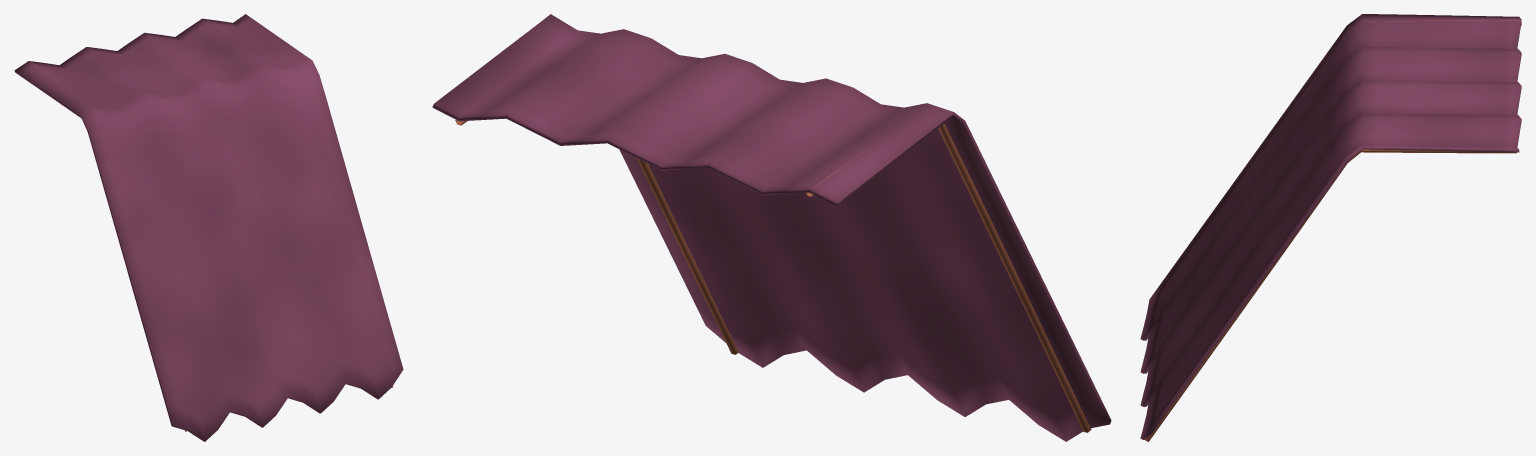
The model's file is 11_Window_Throw.fbx.
3 renders of one model, left to right at view 1: azimuth 30°, elevation 25°; view 2: azimuth 150°, elevation 25°; view 3: azimuth 270°, elevation 25°, orthographic. The views are drawn at different scales.
Parts seen in each view (by area): view 1: 11_Window_Throw; view 2: 11_Window_Throw; view 3: 11_Window_Throw.
Part boxes in pixels (bbox=[...]): 11_Window_Throw: bbox=[14, 14, 403, 441]; 11_Window_Throw: bbox=[432, 14, 1111, 441]; 11_Window_Throw: bbox=[1140, 14, 1521, 441].
Size of the model in its own units: 68.21 by 74.89 by 82.66.
1 material, 1 textured.
